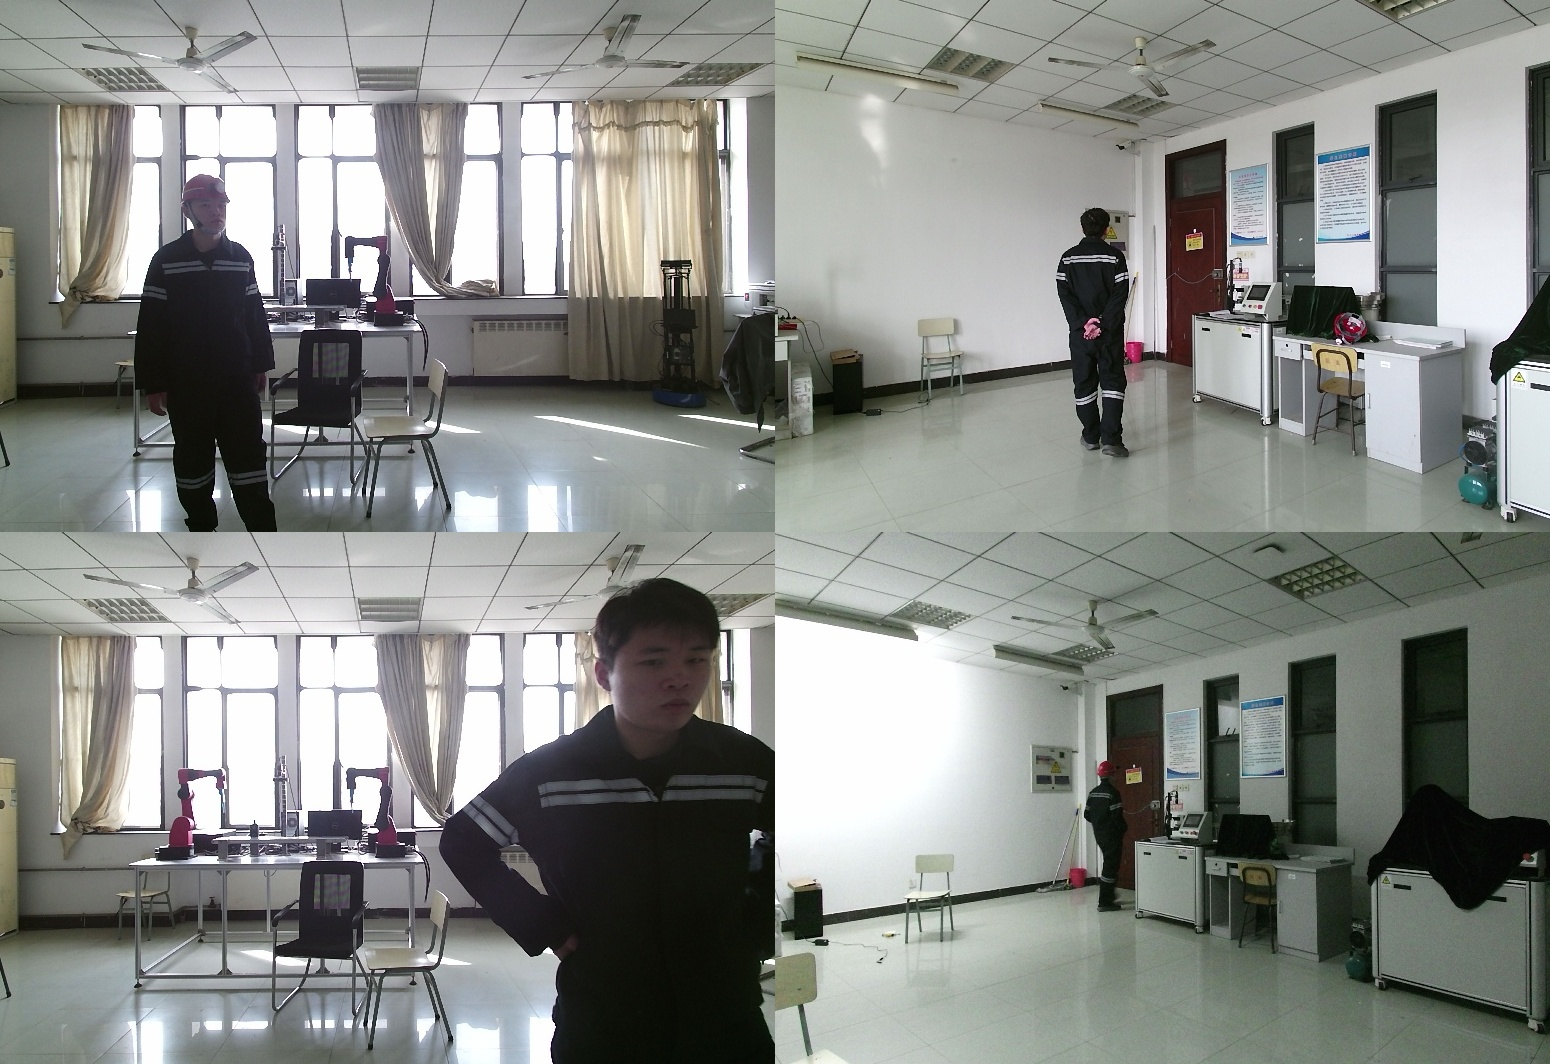person: (442, 581, 775, 1064), (139, 176, 293, 532), (1054, 209, 1141, 460), (1076, 760, 1129, 917)
